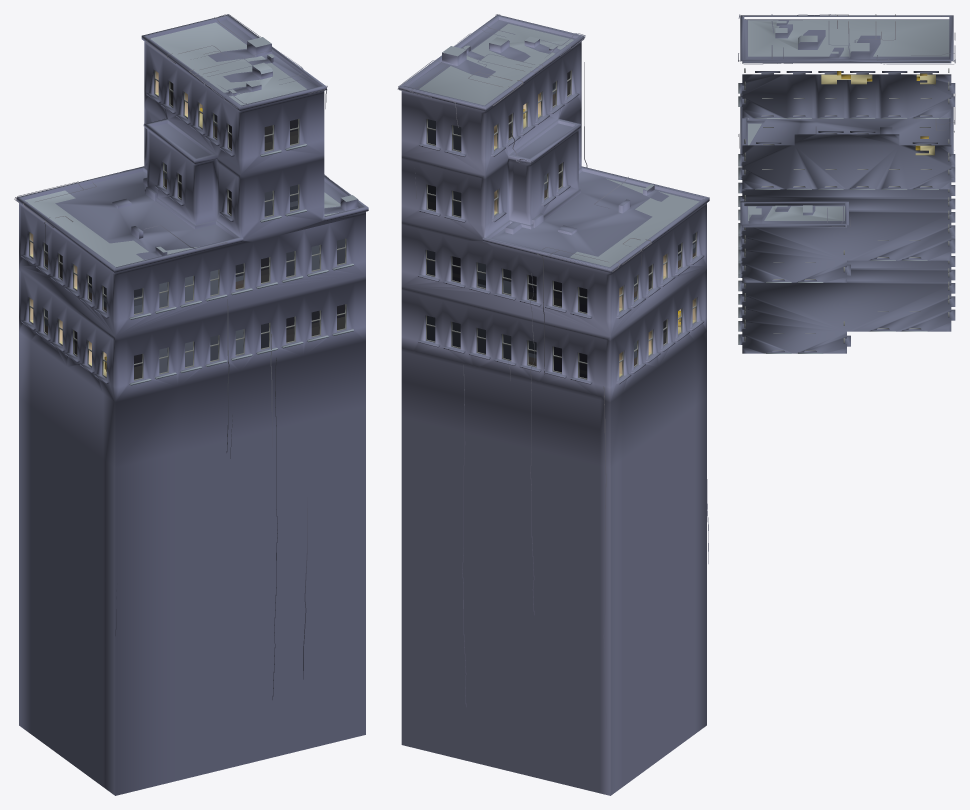
The model's file is mesh_bdg_L_08.gltf.
3 views of the same model, side by side, from view 1: azimuth 30°, elevation 25°; view 2: azimuth 150°, elevation 25°; view 3: azimuth 270°, elevation 25° (orthographic). The views are drawn at different scales.
Visible parts, largest first — view 1: geo1; view 2: geo1; view 3: geo1.
Boxes of the visible parts, x1,y1,x2,y2 form: geo1: [14, 14, 368, 795]; geo1: [397, 14, 709, 795]; geo1: [738, 14, 955, 353].
Bounding box in the file's own units: 12.31 × 30.45 × 8.34.
